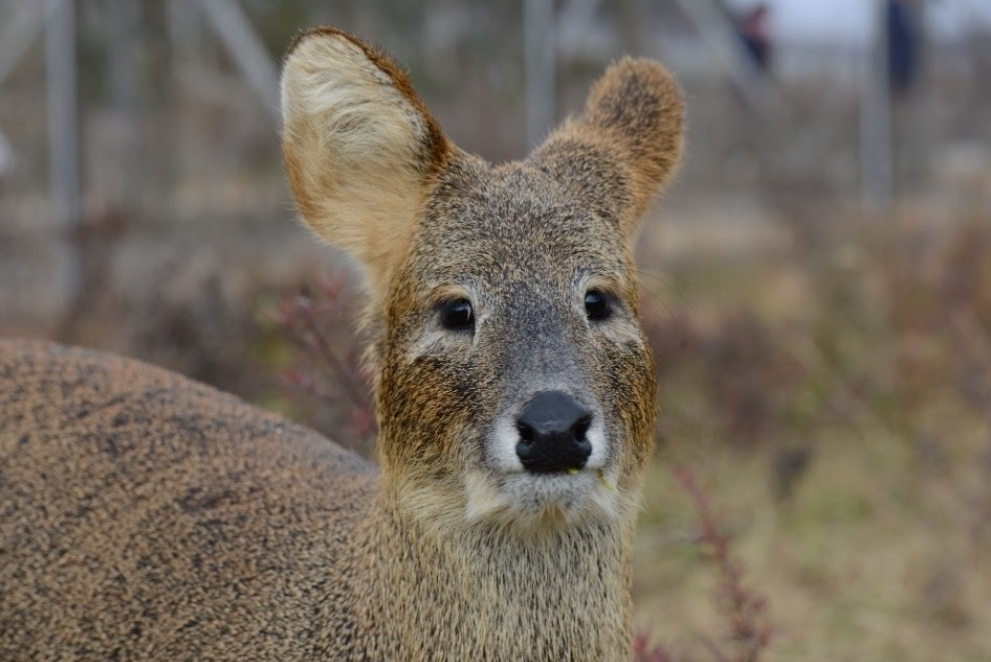elk: (9, 9, 697, 652)
